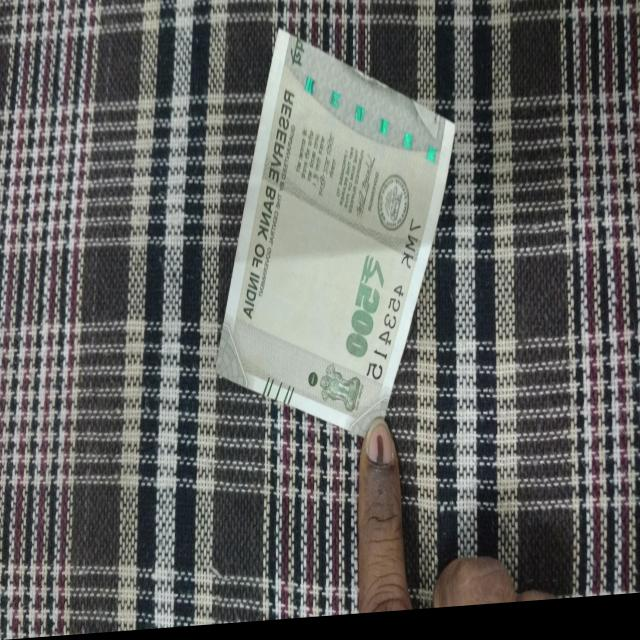Currency: (218, 18, 464, 439)
